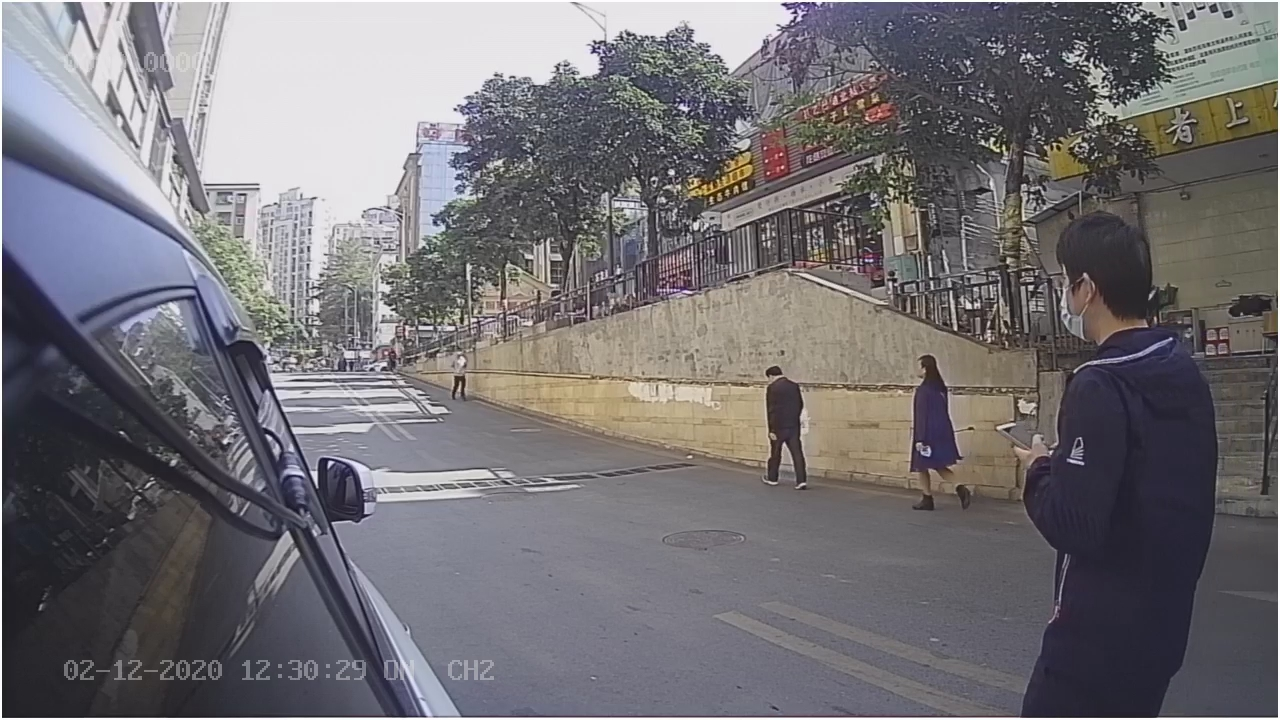person: (1000, 210, 1221, 530)
